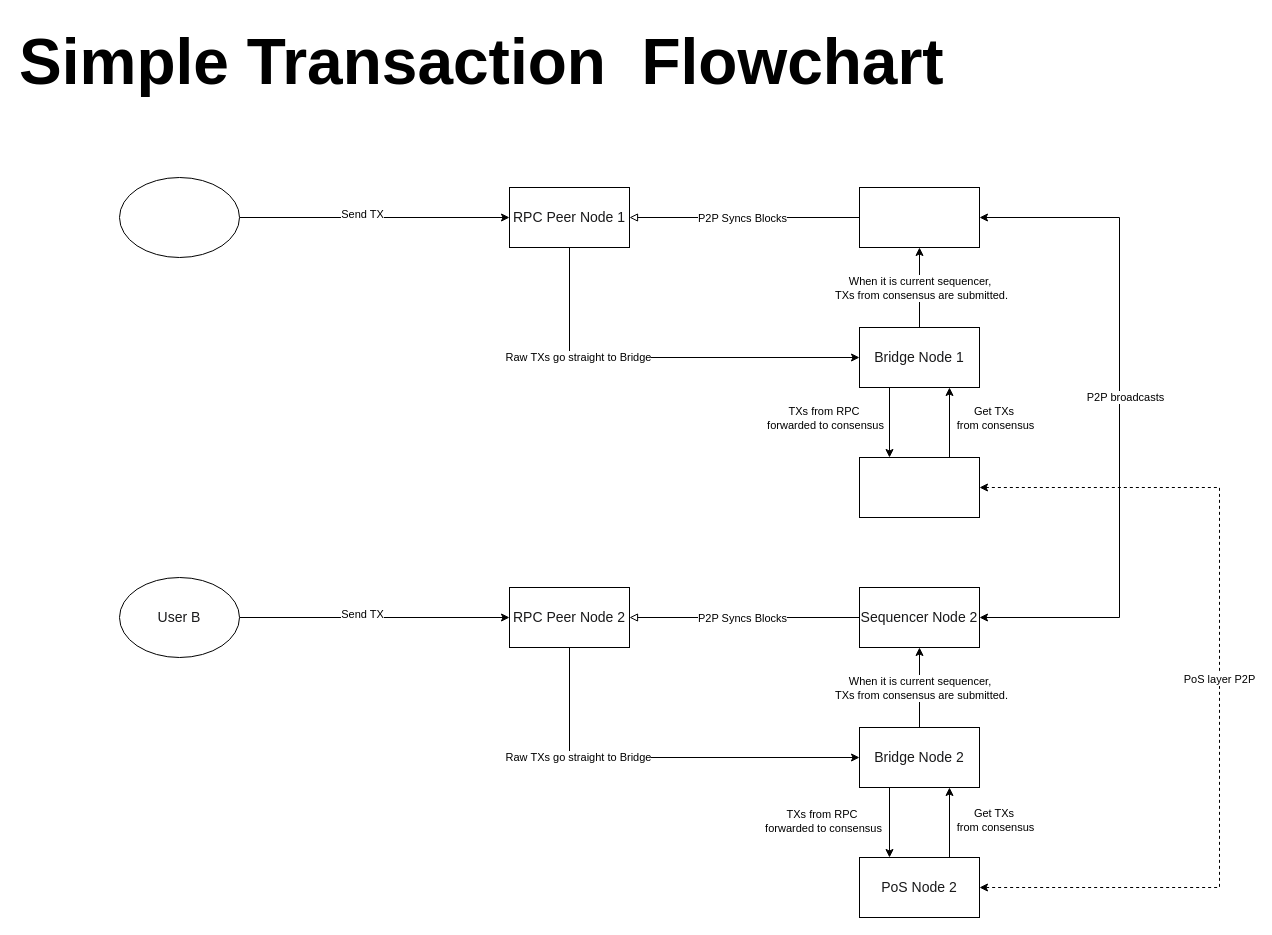
The diagram is 1272 pixels wide and 935 high, and some of its shapes have lost their labels. Each missing label, with the box of its shape:
PoS Node 1: (858, 456, 980, 518)
Sequencer Node 1: (858, 186, 980, 248)
User A: (118, 176, 240, 258)
